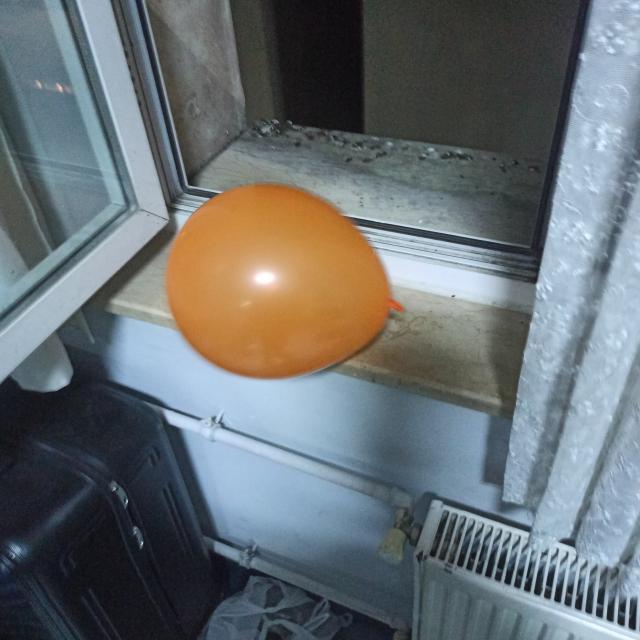balloon: (166, 184, 394, 380)
